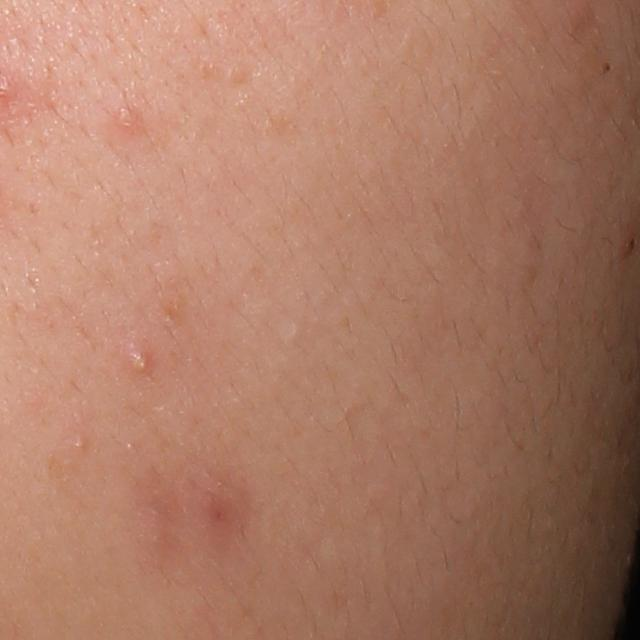comedo: (71, 437, 88, 453)
papule: (116, 106, 137, 131)
pustule: (125, 347, 153, 379)
